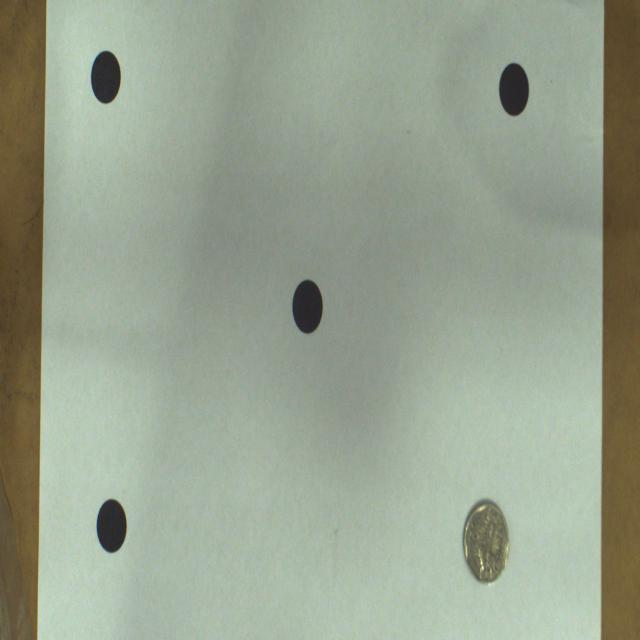space: (96, 498, 128, 553), (91, 51, 121, 104), (292, 280, 322, 333), (500, 64, 529, 116)
tail5bath: (464, 500, 509, 582)
